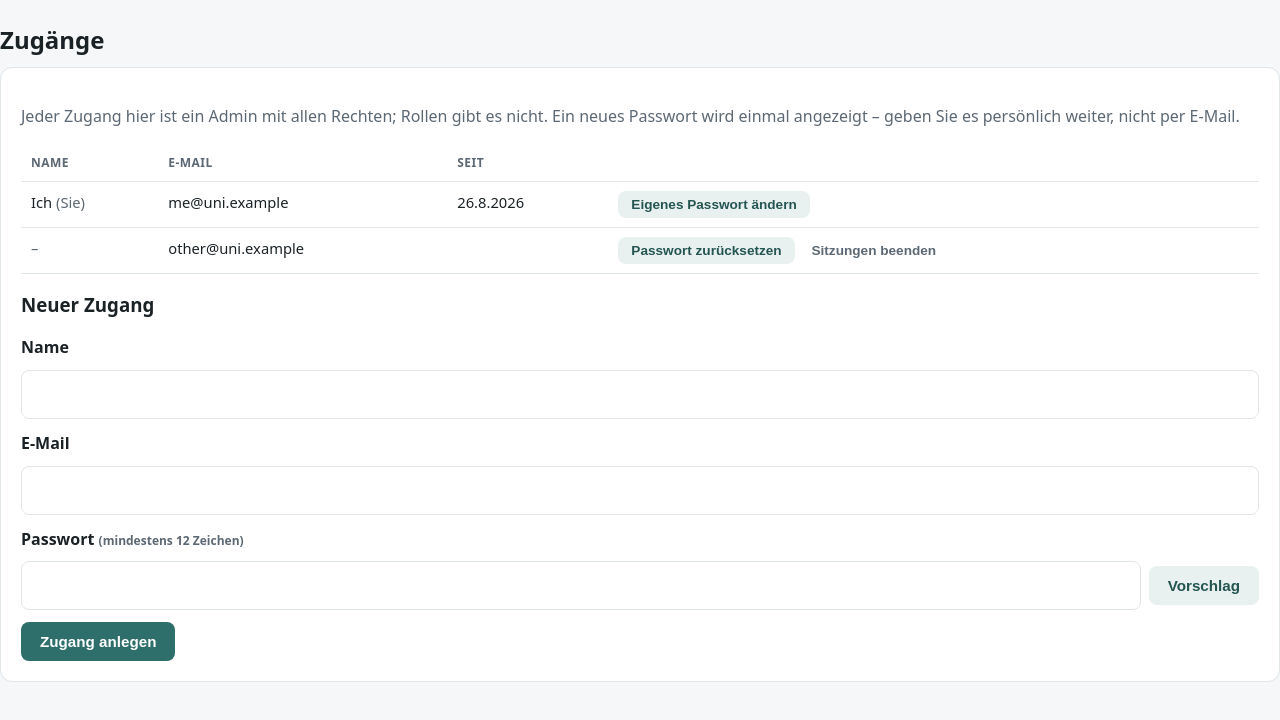
Test: an address that already has an account is said so
Expected: the text "other@uni.example" is shown, [158,228,447,274]
Step 1. Type "other@uni.example" into the field labelled "E-Mail" → (640, 490), box [21,466,1259,515]
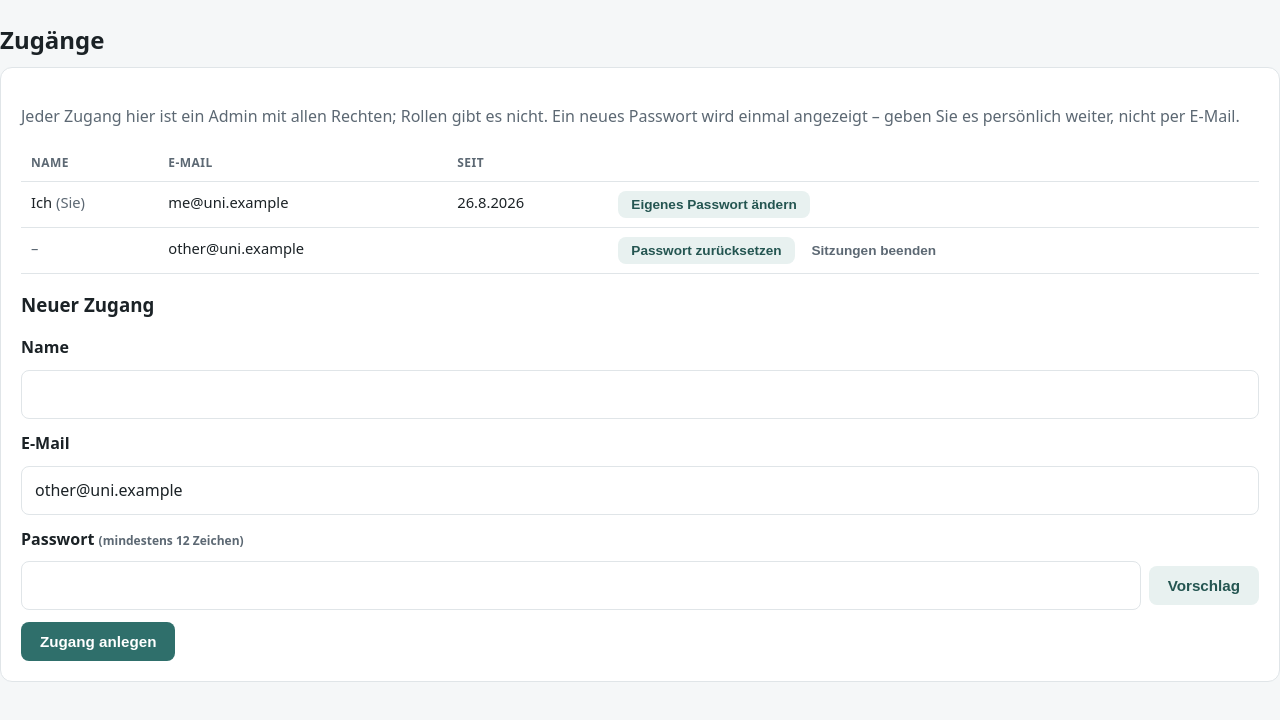
Step 2. Type "long-enough-password" into the field labelled "Passwort (mindestens 12 Zeichen)" → (581, 586), box [21,561,1141,610]
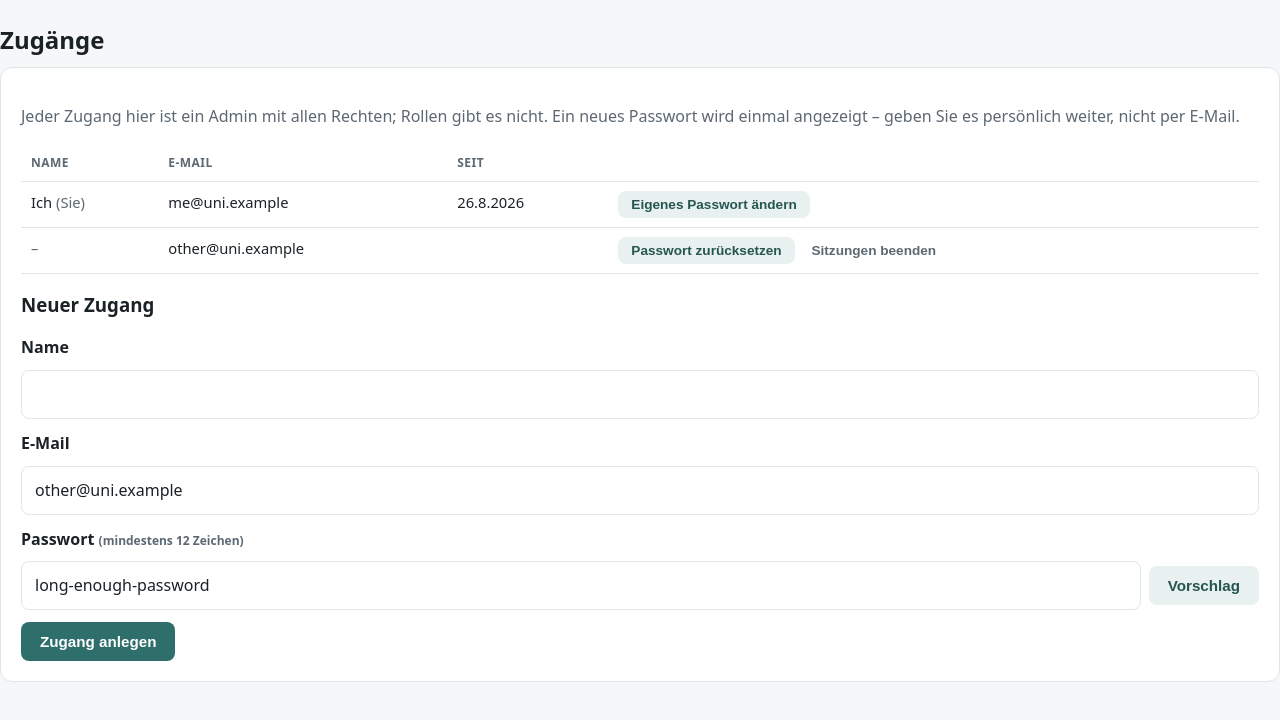
Step 3. Click the button "Zugang anlegen" → (98, 642), box [21,622,176,661]
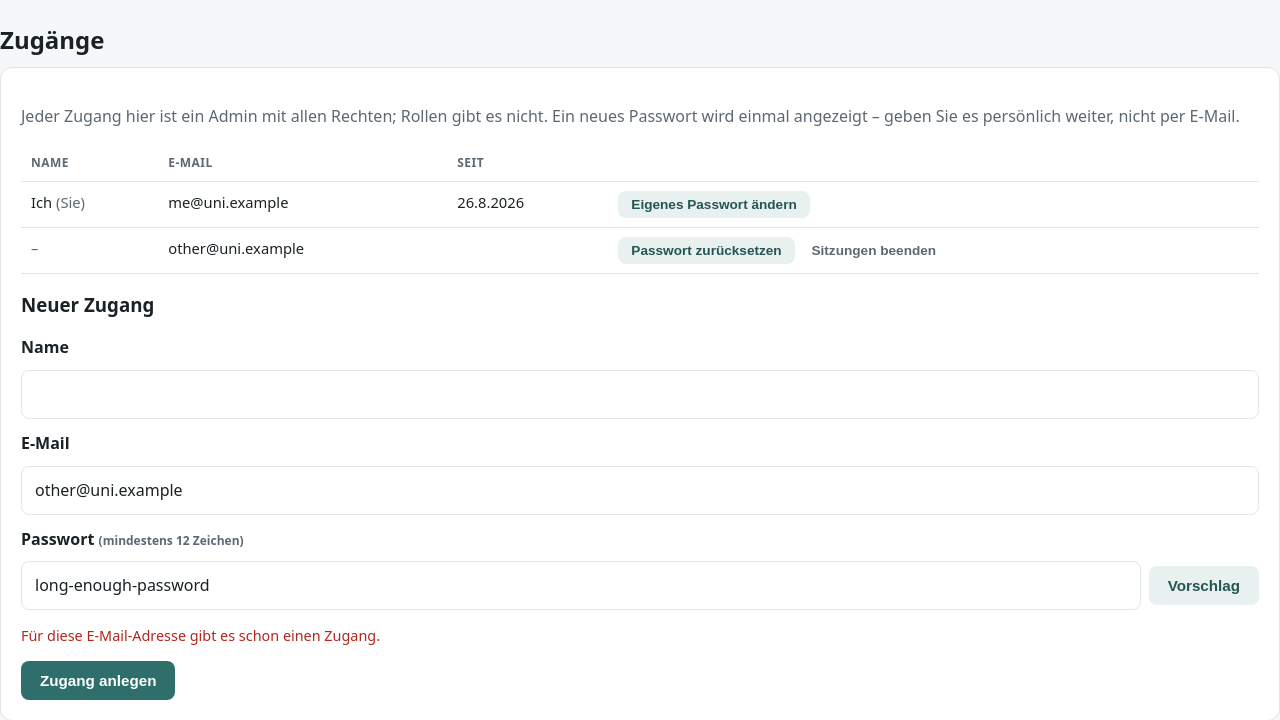
Expected: the text "Für diese E-Mail-Adresse gibt es schon einen Zugang." is shown, [21,626,380,644]
